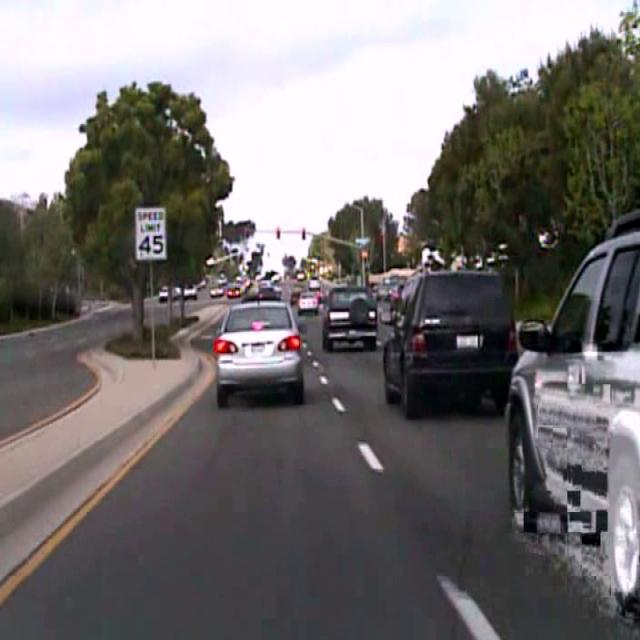speedLimit45: (136, 205, 166, 259)
